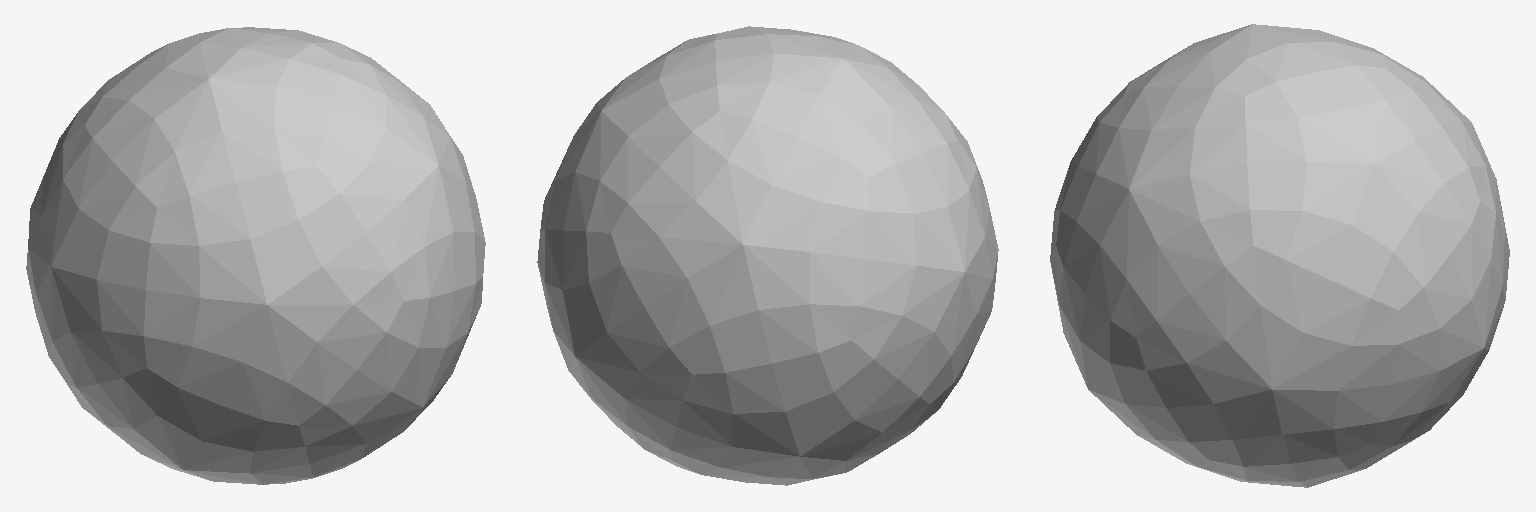
The model's file is model_planet_small.obj.
The picture shows the model from 3 angles: view 1: azimuth 30°, elevation 25°; view 2: azimuth 150°, elevation 25°; view 3: azimuth 270°, elevation 25°; orthographic projection.
Parts seen in each view (by area): view 1: obj_planet_1; view 2: obj_planet_1; view 3: obj_planet_1.
Part boxes in pixels (left/top/right/bottom): obj_planet_1: left=26, top=27, right=485, bottom=484; obj_planet_1: left=537, top=26, right=998, bottom=485; obj_planet_1: left=1050, top=24, right=1509, bottom=487.
Bounding box in the file's own units: 10 × 9.87 × 9.9.